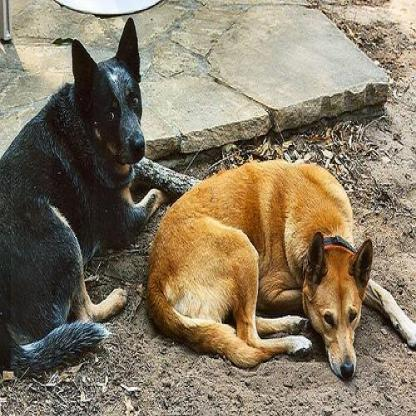dingo: (144, 156, 414, 382)
